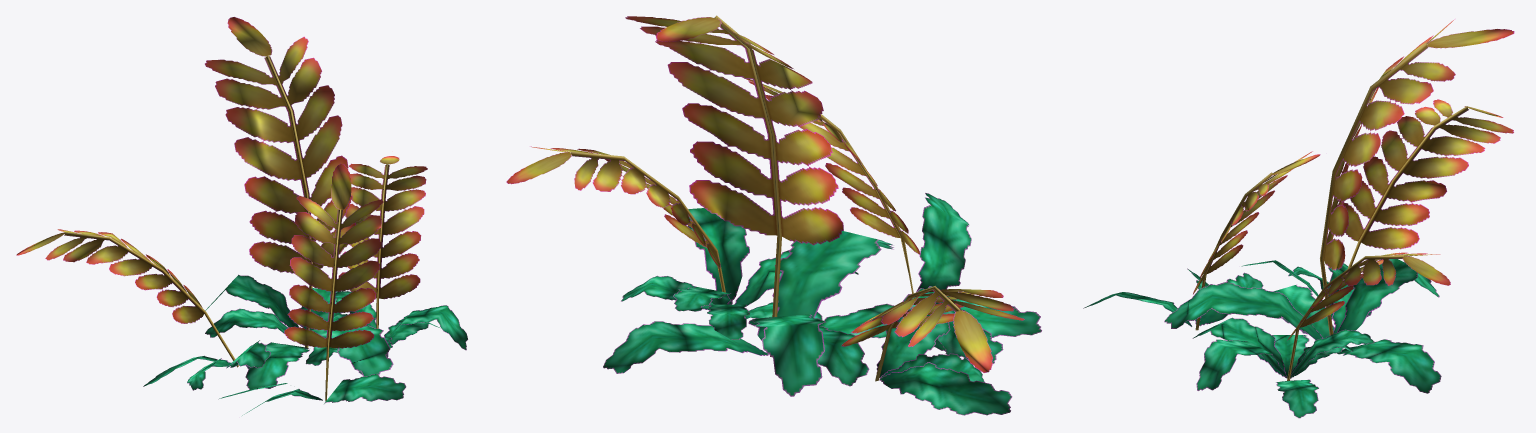
File: n_SWFgogra01.glb
The picture shows the model from 3 angles, left to right: view 1: azimuth 30°, elevation 25°; view 2: azimuth 150°, elevation 25°; view 3: azimuth 270°, elevation 25°; orthographic projection. The views are drawn at different scales.
Visible parts, largest first — view 1: n_SWFgogra01; view 2: n_SWFgogra01; view 3: n_SWFgogra01.
Part boxes in pixels (x1,y1,x2,y2): n_SWFgogra01: (16,17,467,415); n_SWFgogra01: (506,15,1041,415); n_SWFgogra01: (1083,19,1514,418).
Bounding box in the file's own units: 0.9559 × 0.6709 × 0.8322.
Materials: 4 (4 with a texture image).
